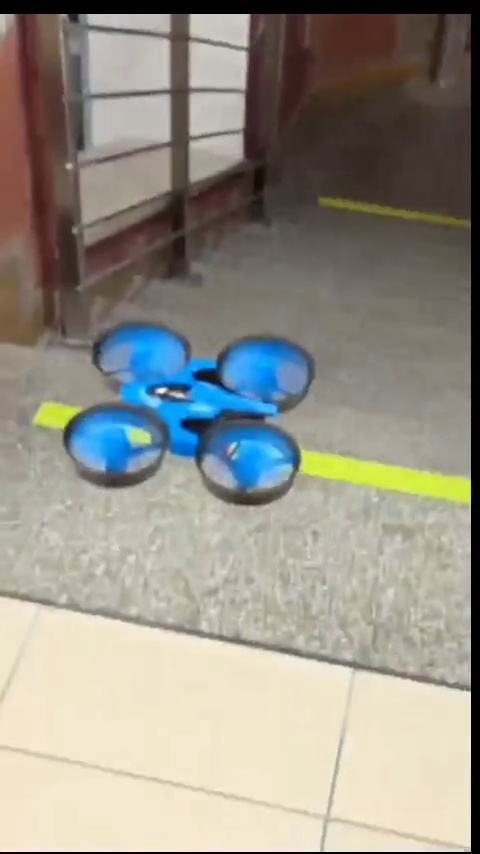drone: (75, 325, 309, 500)
